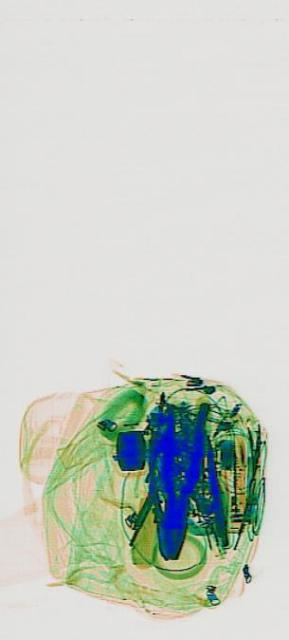Pliers: (156, 392, 209, 566)
